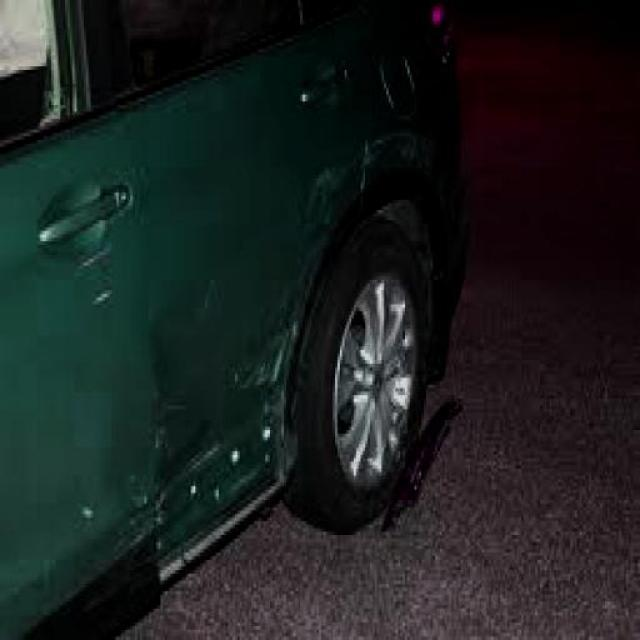car damage: (86, 126, 453, 621)
